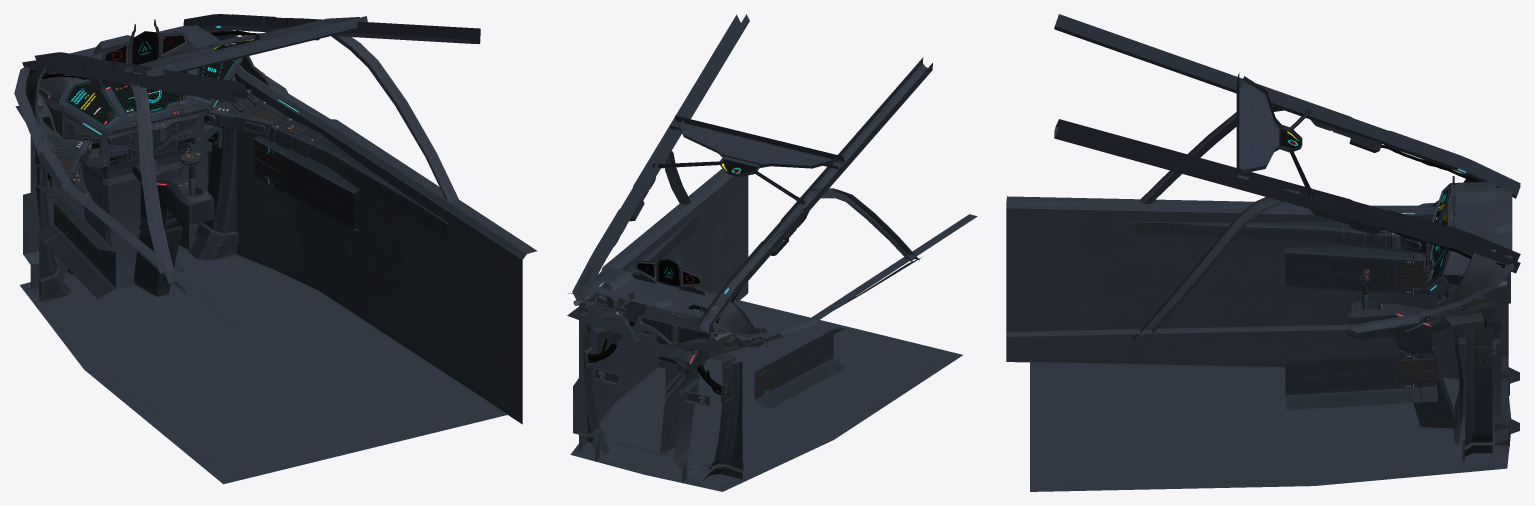
The model's file is cabin.glb.
3 renders of one model, left to right at view 1: azimuth 30°, elevation 25°; view 2: azimuth 150°, elevation 25°; view 3: azimuth 270°, elevation 25°, orthographic. The views are drawn at different scales.
Visible parts, largest first — view 1: cabin, screen; view 2: cabin, screen; view 3: cabin, screen.
Boxes of the visible parts, x1,y1,x2,y2 form: cabin: [14, 14, 537, 484]; screen: [65, 31, 259, 126]; cabin: [567, 14, 977, 491]; screen: [635, 159, 757, 311]; cabin: [1006, 14, 1520, 491]; screen: [1280, 129, 1447, 279].
Size of the model in its own units: 1.6 by 1.9 by 2.48.
Materials: 1 (1 with a texture image).
